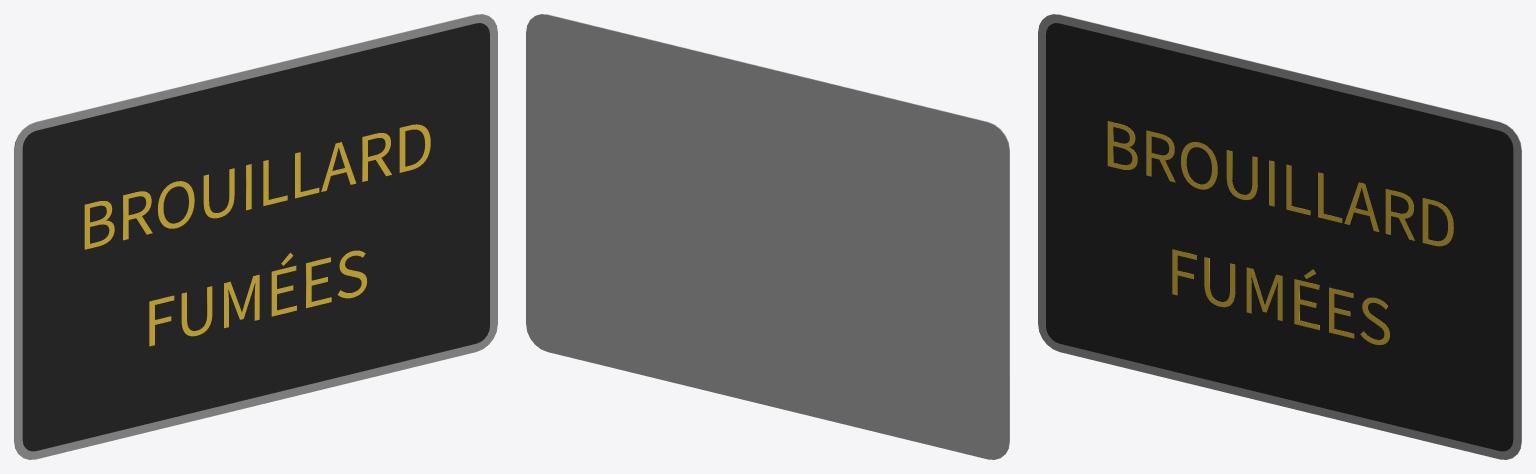
Rendered from XAK32.glb.
The picture shows the model from 3 angles, left to right: view 1: azimuth 30°, elevation 25°; view 2: azimuth 150°, elevation 25°; view 3: azimuth 330°, elevation 25°; orthographic projection.
Parts seen in each view (by area): view 1: XAK32_r01, XAK32_r00, XAK32_txt02, XAK32_txt03, XAK32_dos; view 2: XAK32_dos, XAK32_r00; view 3: XAK32_r01, XAK32_r00, XAK32_txt02, XAK32_txt03, XAK32_dos.
Part boxes in pixels (x1=…): XAK32_r01: x1=22, y1=23, x2=489, y2=451; XAK32_r00: x1=14, y1=14, x2=497, y2=459; XAK32_txt02: x1=84, y1=124, x2=430, y2=249; XAK32_txt03: x1=149, y1=250, x2=367, y2=346; XAK32_dos: x1=14, y1=14, x2=487, y2=452; XAK32_dos: x1=526, y1=14, x2=1009, y2=459; XAK32_r00: x1=542, y1=14, x2=1009, y2=448; XAK32_r01: x1=1046, y1=23, x2=1513, y2=451; XAK32_r00: x1=1038, y1=14, x2=1521, y2=459; XAK32_txt02: x1=1107, y1=121, x2=1453, y2=246; XAK32_txt03: x1=1172, y1=249, x2=1389, y2=344; XAK32_dos: x1=1048, y1=14, x2=1521, y2=452.
Size of the model in its own units: 0.9 by 0.6 by 0.0029.
